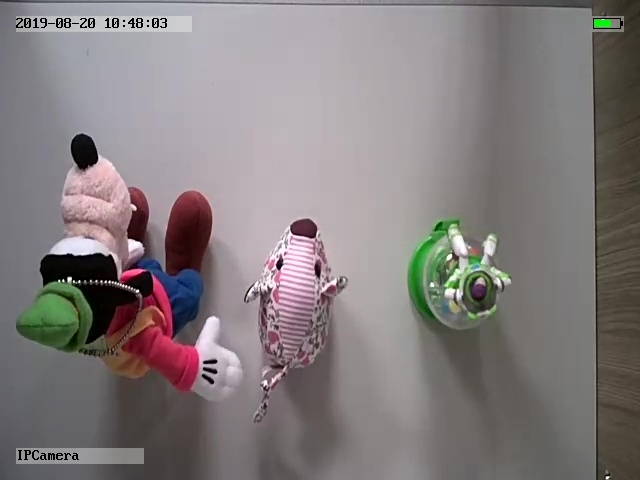buzz: (403, 216, 515, 337)
goofy: (15, 133, 242, 402)
pig: (242, 213, 351, 423)
